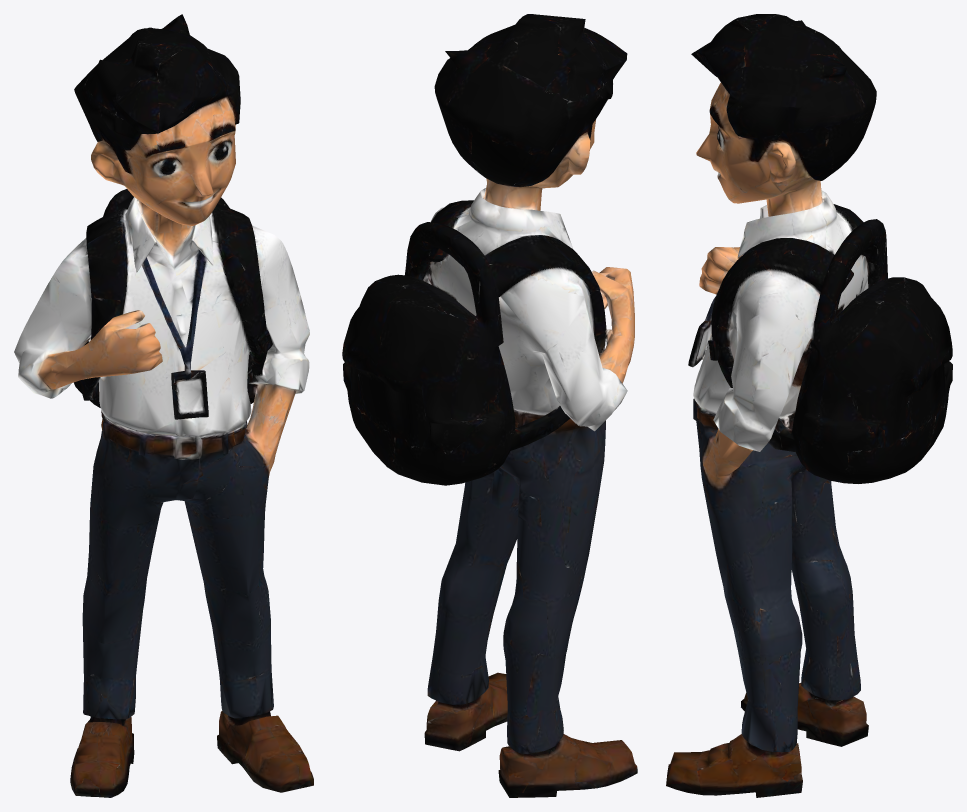
File: man.glb
The picture shows the model from 3 angles, left to right: view 1: azimuth 30°, elevation 25°; view 2: azimuth 150°, elevation 25°; view 3: azimuth 270°, elevation 25°; orthographic projection. The views are drawn at different scales.
Size of the model in its own units: 0.6917 by 1.9 by 0.6854.
1 material, 1 textured.
